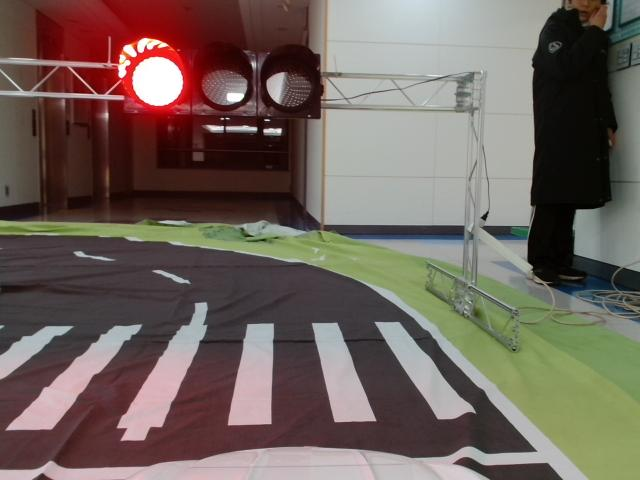crosswalk: (1, 322, 479, 429)
traffic light-red-: (120, 38, 322, 118)
